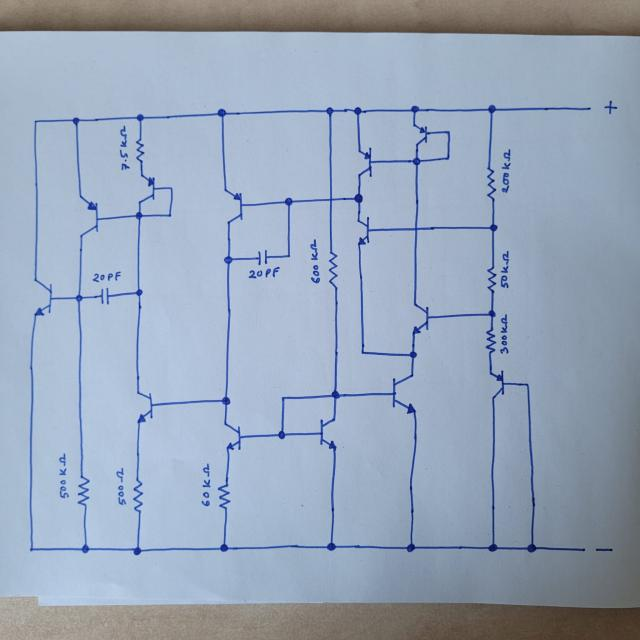capacitor: (97, 286, 111, 306), (255, 248, 270, 266)
crossover: (410, 224, 420, 234), (326, 194, 335, 205)
junction: (523, 541, 538, 554), (404, 541, 417, 554), (324, 540, 338, 552), (353, 192, 365, 205), (351, 105, 364, 117), (215, 106, 227, 118), (220, 395, 232, 407), (276, 428, 288, 440), (218, 542, 230, 554), (486, 103, 498, 115), (79, 542, 91, 554), (486, 542, 498, 554), (487, 222, 499, 234), (408, 103, 421, 114), (330, 388, 341, 401), (222, 253, 234, 264), (410, 156, 422, 167), (283, 196, 294, 207), (324, 105, 335, 116), (486, 308, 496, 319), (71, 115, 81, 126), (135, 112, 145, 122), (134, 210, 144, 220), (408, 349, 418, 359), (132, 546, 142, 556), (522, 380, 532, 390), (74, 292, 83, 303), (278, 393, 288, 402), (134, 288, 143, 297), (358, 348, 367, 357), (444, 128, 453, 137), (443, 153, 452, 162), (27, 545, 36, 553), (31, 117, 39, 125), (167, 184, 175, 192), (166, 212, 173, 220), (285, 252, 292, 260)
resistor: (74, 473, 92, 508), (326, 249, 340, 289), (483, 164, 498, 201), (130, 478, 144, 514), (216, 481, 232, 512), (484, 264, 498, 294), (483, 326, 497, 356), (133, 136, 147, 166)
terminal: (580, 545, 588, 554), (586, 104, 593, 112)
text: (56, 450, 70, 500), (117, 124, 131, 172), (308, 237, 320, 285), (498, 250, 512, 290), (500, 148, 512, 194), (200, 462, 212, 508), (114, 467, 127, 508), (498, 314, 510, 357), (246, 266, 281, 280), (92, 270, 120, 284), (602, 98, 618, 116), (594, 545, 614, 556)
transistor: (28, 276, 56, 321), (390, 372, 418, 416), (76, 194, 101, 238), (133, 389, 158, 428), (222, 187, 245, 225), (353, 145, 376, 180), (220, 420, 243, 455), (135, 172, 158, 207), (352, 215, 373, 252), (409, 301, 431, 336), (316, 415, 338, 450), (486, 368, 507, 401), (411, 124, 432, 148)
